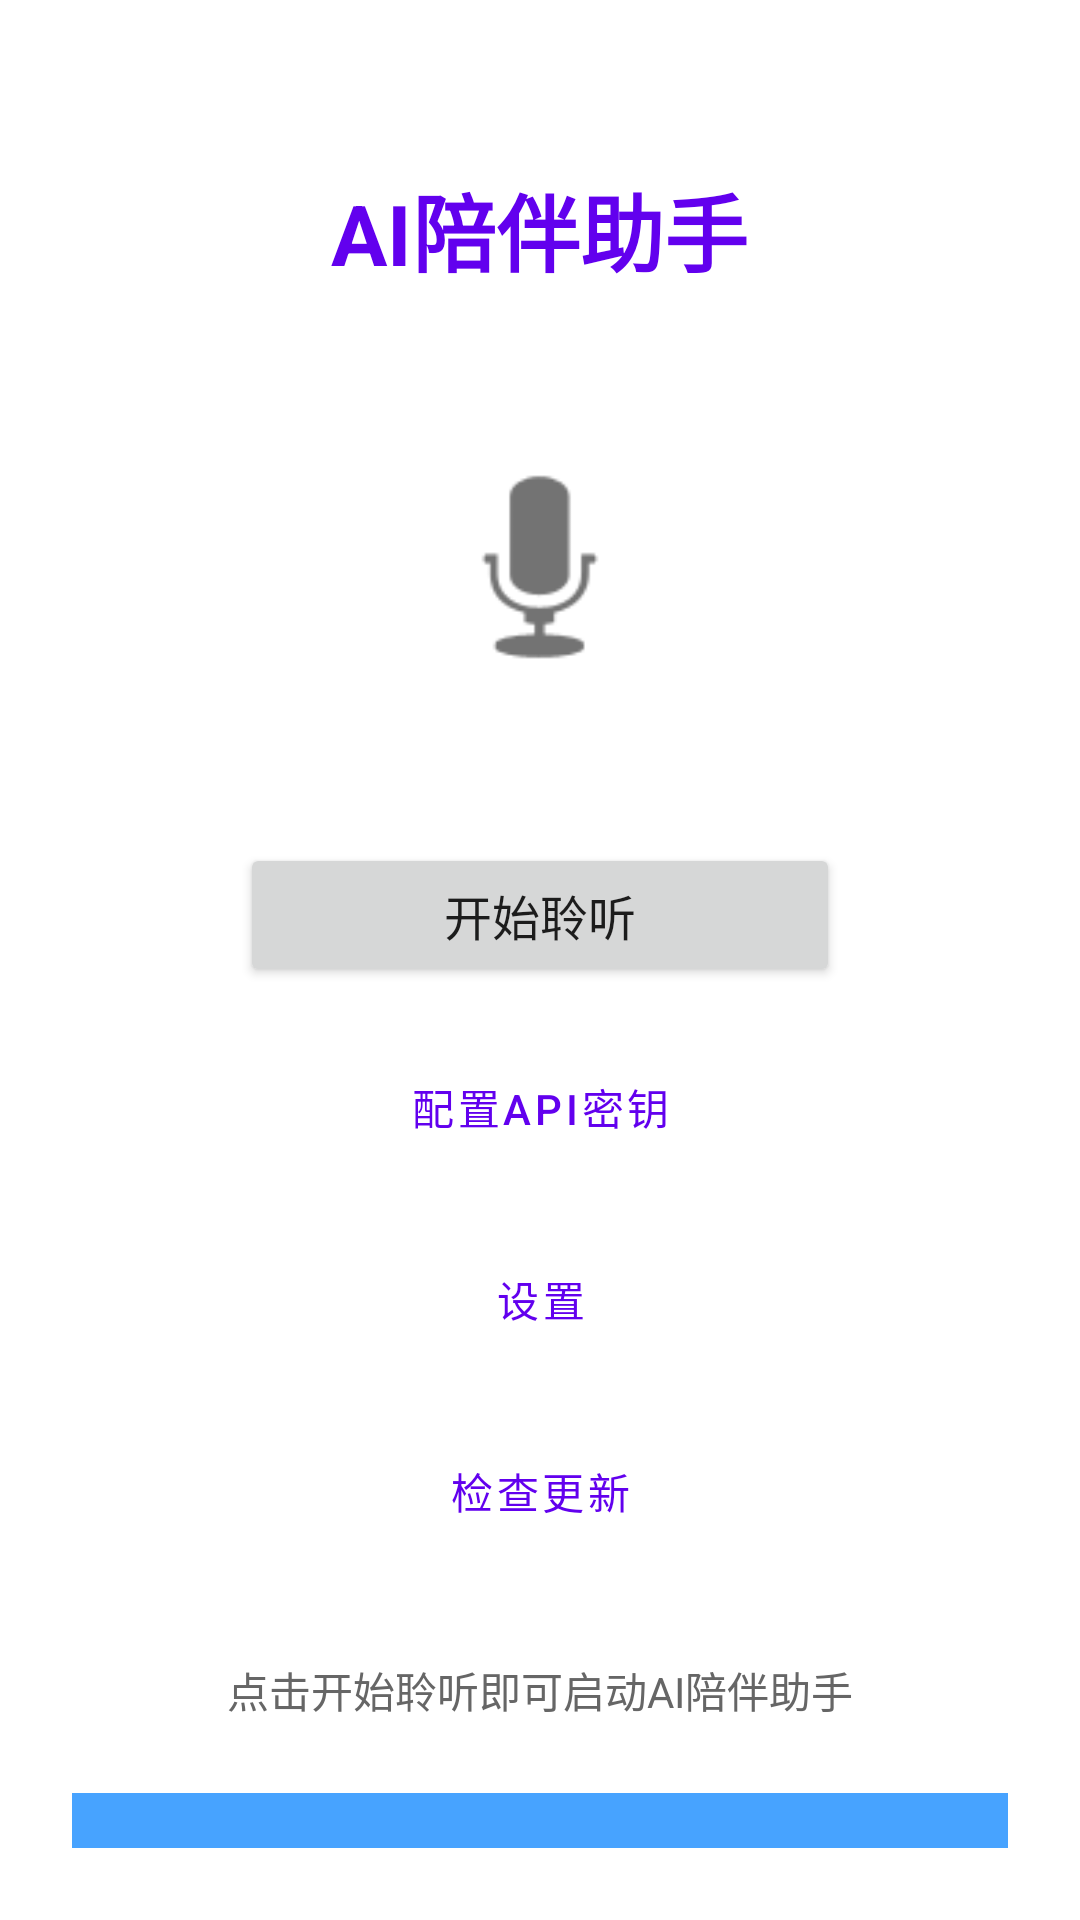

Named icons in this screenshot (1080×1920) and their centers, point (x, y):
Microphone: point (540, 567)
